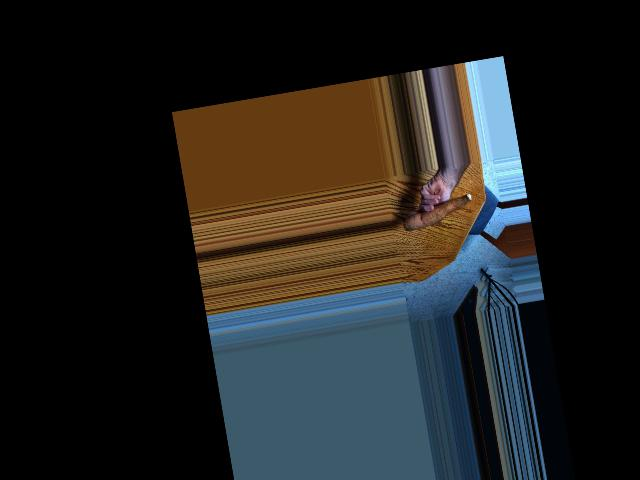sweet_potato: (400, 190, 476, 234)
